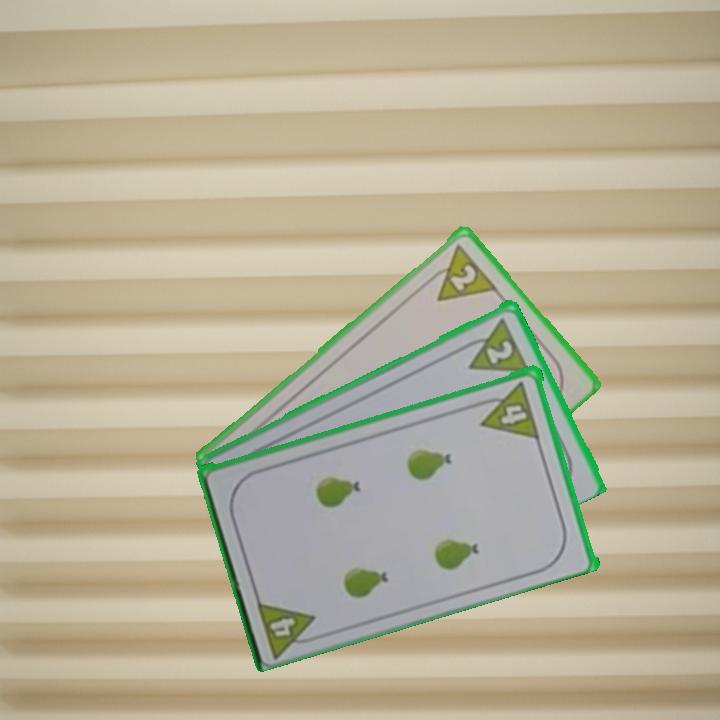2p: (420, 240, 500, 304), (456, 313, 532, 375)
4p: (253, 594, 324, 658), (473, 377, 542, 441)
